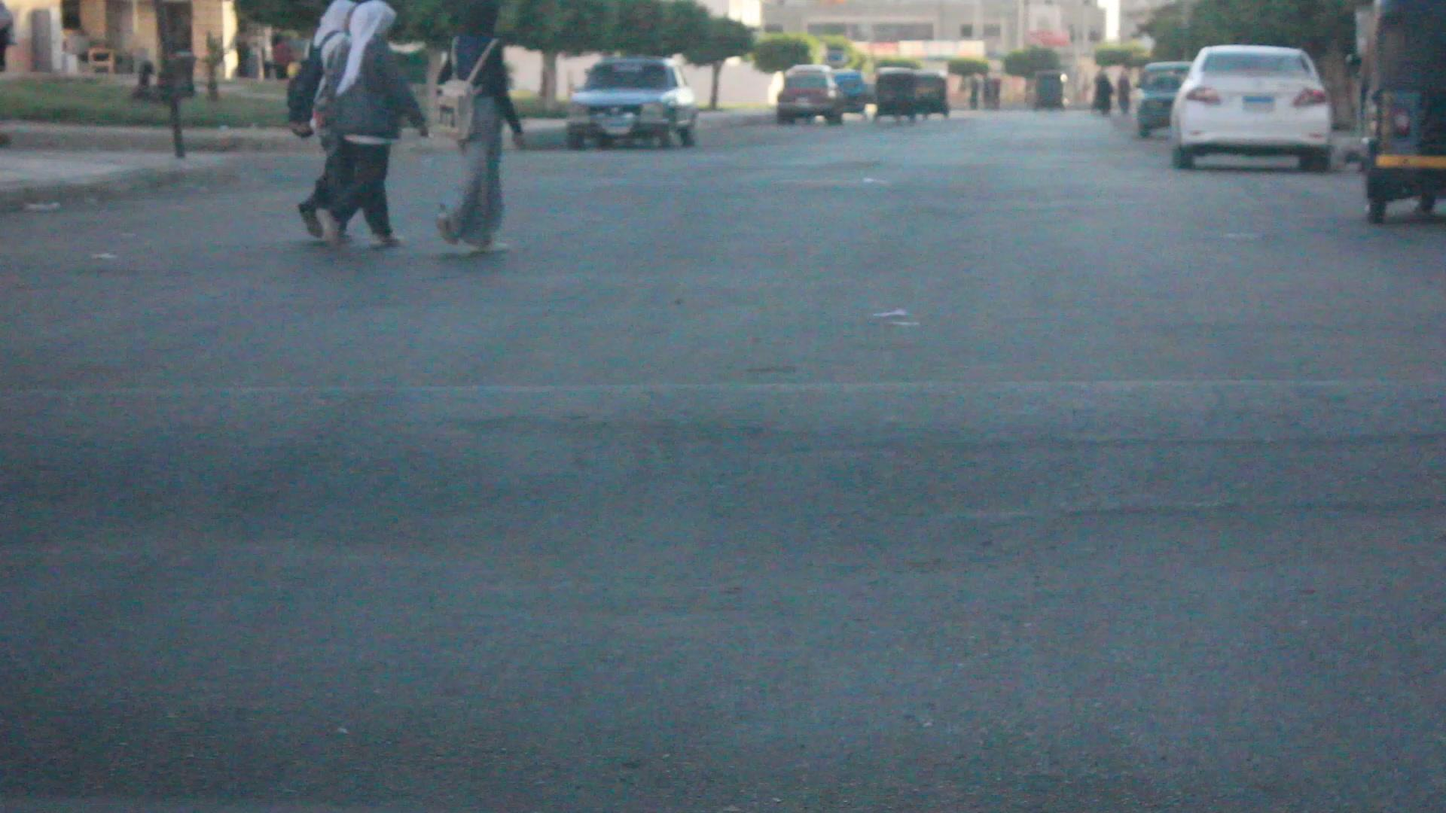Bump: (2, 388, 1446, 568)
